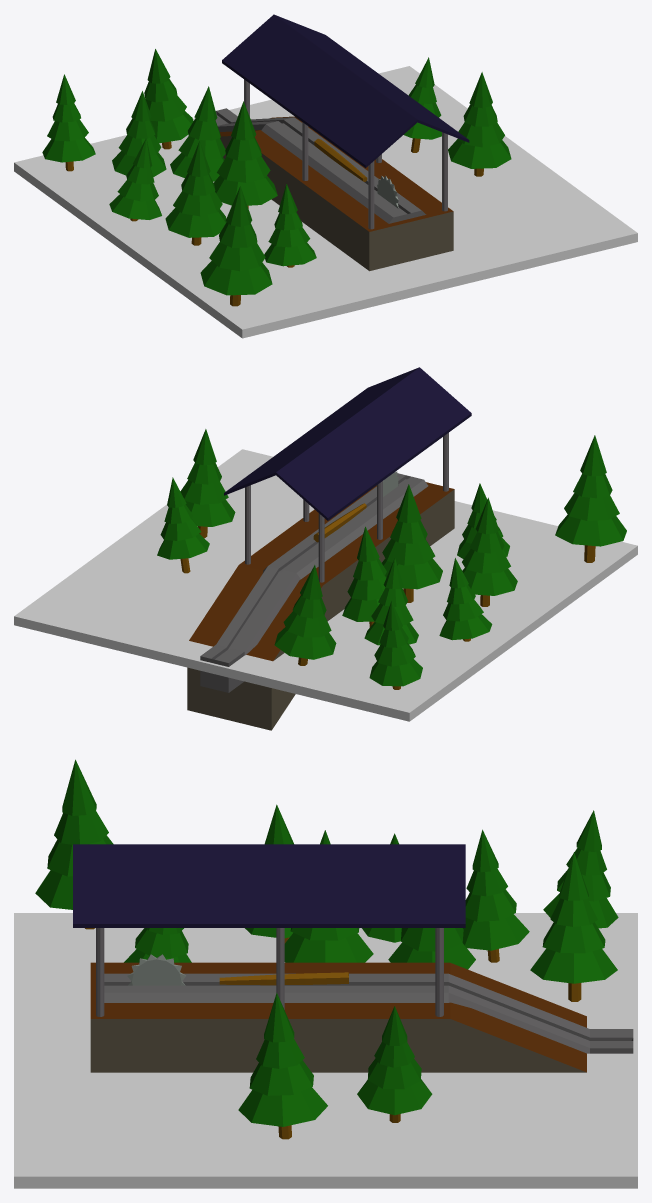
Rendered from aserradero 1.fbx.
3 views of the same model, one above another, from view 1: azimuth 30°, elevation 25°; view 2: azimuth 150°, elevation 25°; view 3: azimuth 270°, elevation 25° (orthographic). The views are drawn at different scales.
Visible parts, largest first — view 1: Cube, Cube.002, Cube.001, Cube.003, Cube.005, Cylinder.049, Cylinder.054, Cylinder.046, Cylinder.001, Cylinder.050, Cylinder.002, Cylinder.034 (+29 smaller); view 2: Cube, Cube.002, Cube.003, Cube.005, Cube.001, Cylinder.049, Cylinder.024, Cylinder.050, Cylinder.046, Cylinder.001, Cylinder.034, Cylinder.002 (+20 smaller); view 3: Cube, Cube.002, Cube.001, Cube.005, Cube.003, Cylinder.054, Cylinder.024, Cylinder.001, Cylinder.029, Cylinder.061, Cylinder.055, Cylinder.025 (+28 smaller).
Part boxes in pixels (bbox=[...]): Cube: bbox=[14, 66, 637, 338]; Cube.002: bbox=[222, 14, 469, 167]; Cube.001: bbox=[220, 136, 453, 271]; Cube.003: bbox=[215, 108, 426, 223]; Cube.005: bbox=[220, 116, 453, 231]; Cylinder.049: bbox=[200, 261, 272, 295]; Cylinder.054: bbox=[448, 139, 511, 168]; Cylinder.046: bbox=[165, 208, 226, 237]; Cylinder.001: bbox=[213, 175, 277, 205]; Cylinder.050: bbox=[209, 242, 265, 271]; Cylinder.002: bbox=[217, 156, 270, 182]; Cylinder.034: bbox=[42, 137, 95, 162]; Cube: bbox=[14, 449, 637, 721]; Cube.002: bbox=[224, 367, 471, 520]; Cube.003: bbox=[200, 473, 428, 692]; Cube.005: bbox=[189, 482, 454, 661]; Cube.001: bbox=[187, 489, 454, 730]; Cylinder.049: bbox=[555, 514, 626, 546]; Cylinder.024: bbox=[274, 627, 336, 659]; Cylinder.050: bbox=[564, 493, 619, 520]; Cylinder.046: bbox=[462, 568, 517, 595]; Cylinder.001: bbox=[382, 558, 442, 589]; Cylinder.034: bbox=[369, 659, 422, 686]; Cylinder.002: bbox=[382, 538, 435, 565]; Cube: bbox=[14, 913, 637, 1188]; Cube.002: bbox=[73, 844, 465, 927]; Cube.001: bbox=[90, 1019, 586, 1072]; Cube.005: bbox=[90, 962, 586, 1072]; Cube.003: bbox=[104, 973, 633, 1053]; Cylinder.054: bbox=[238, 1087, 327, 1126]; Cylinder.024: bbox=[530, 948, 617, 983]; Cylinder.001: bbox=[284, 933, 373, 962]; Cylinder.029: bbox=[462, 914, 529, 950]; Cylinder.061: bbox=[357, 1079, 432, 1115]; Cylinder.055: bbox=[249, 1060, 313, 1095]; Cylinder.025: bbox=[542, 922, 605, 953].
Bounding box in the file's own units: 206 × 104 × 200.
